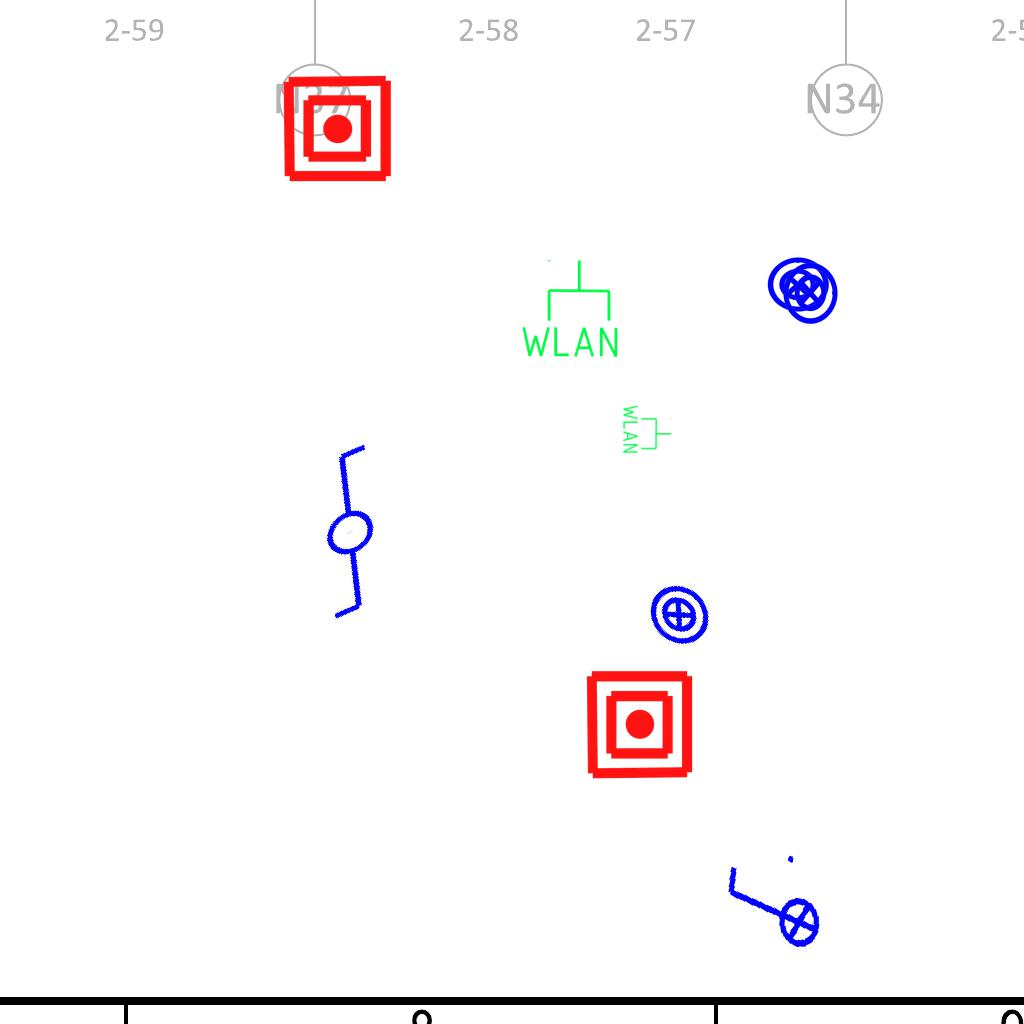Ausschalter_beleuchtet: (715, 846, 827, 972)
NAM-Nichtautomatischer_Melder: (583, 668, 696, 781), (281, 72, 394, 185)
Taster_beleuchtet: (632, 568, 726, 662), (765, 252, 831, 318), (777, 260, 843, 326)
WLAN: (517, 257, 622, 361), (621, 403, 673, 455)
Wechselschalter: (236, 430, 449, 642)
